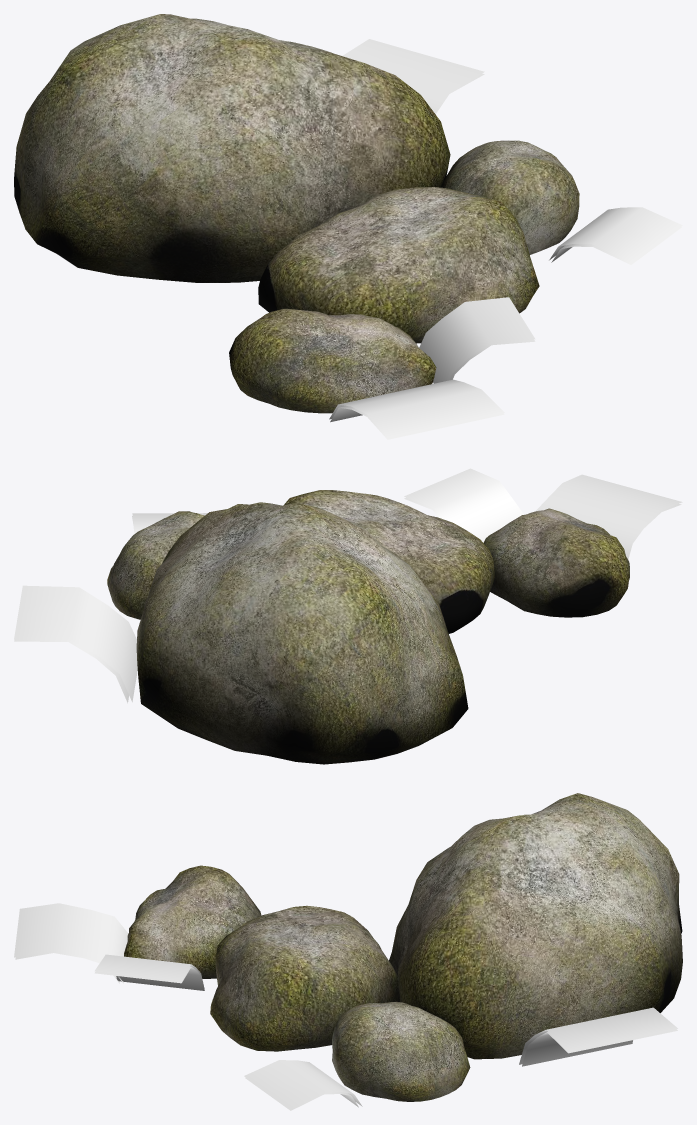
The model's file is Stone2.fbx.
3 renders of one model, top to bottom at view 1: azimuth 30°, elevation 25°; view 2: azimuth 150°, elevation 25°; view 3: azimuth 270°, elevation 25°, orthographic. The views are drawn at different scales.
Parts seen in each view (by area): view 1: prim1; view 2: prim1; view 3: prim1.
Part boxes in pixels (bbox=[...]): prim1: bbox=[14, 14, 682, 439]; prim1: bbox=[14, 468, 682, 764]; prim1: bbox=[14, 793, 682, 1110].
Bounding box in the file's own units: 246 × 90.59 × 326.
